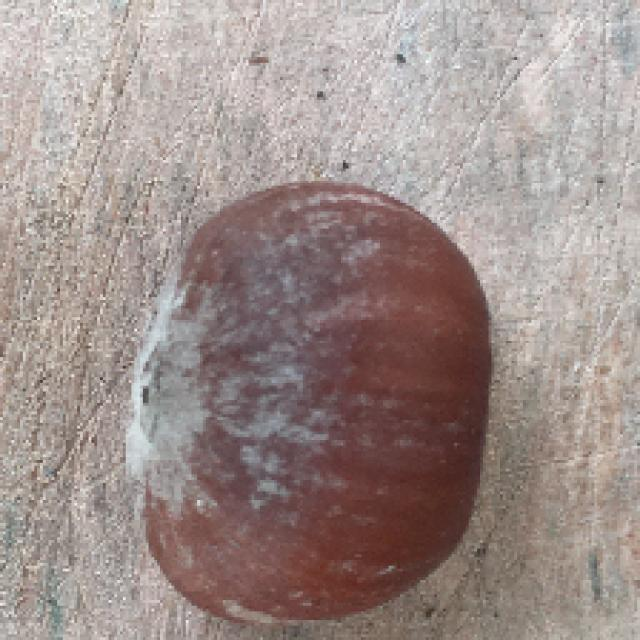qualityHazelnut: (131, 182, 496, 619)
